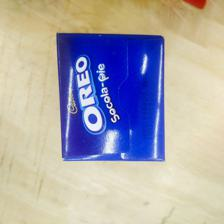Oreo: (54, 32, 166, 164)
